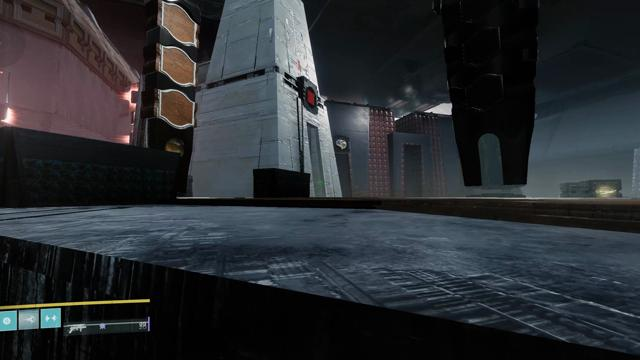brain: (334, 138, 348, 151)
stop: (305, 86, 317, 108)
